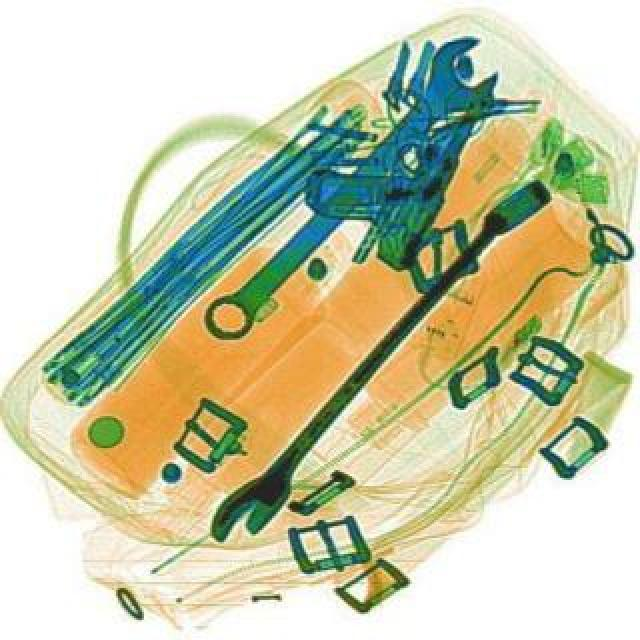gun: (282, 24, 498, 272)
scissors: (194, 164, 558, 556), (182, 22, 514, 358)
